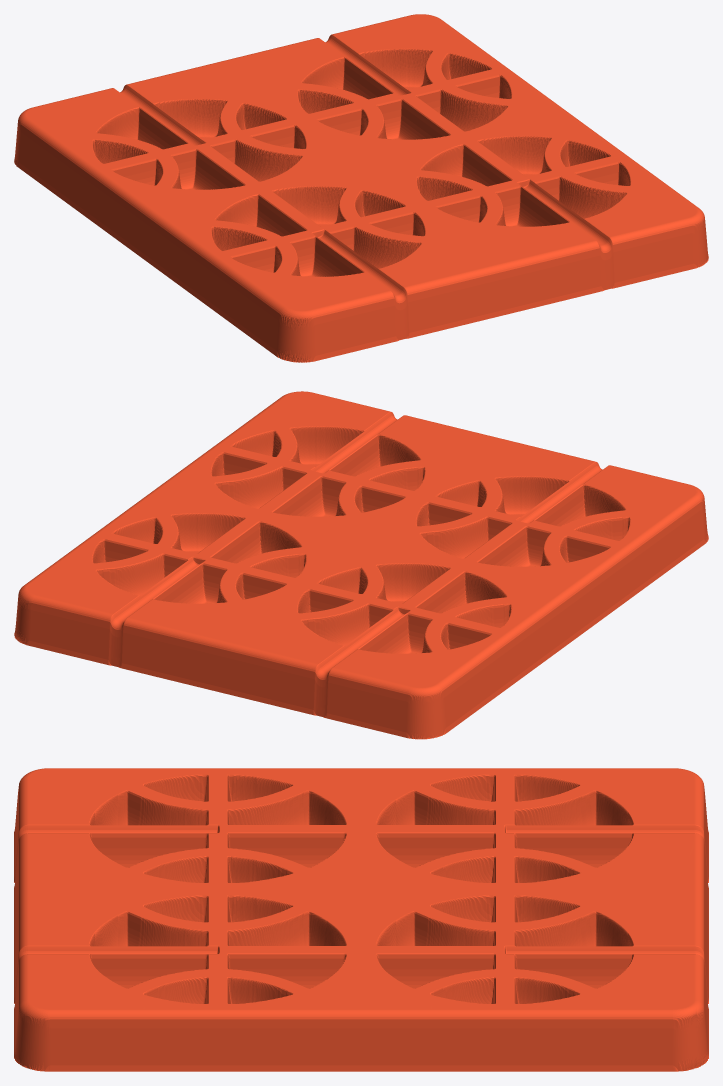
The model's file is mold.glb.
3 views of the same model, one above another, from view 1: azimuth 30°, elevation 25°; view 2: azimuth 150°, elevation 25°; view 3: azimuth 270°, elevation 25° (orthographic). The views are drawn at different scales.
Visible parts, largest first — view 1: geometry_0; view 2: geometry_0; view 3: geometry_0.
Boxes of the visible parts, x1,y1,x2,y2 form: geometry_0: (14, 14, 708, 362); geometry_0: (14, 391, 708, 739); geometry_0: (14, 768, 708, 1071).
Size of the model in its own units: 0.1491 by 0.0155 by 0.1735.
